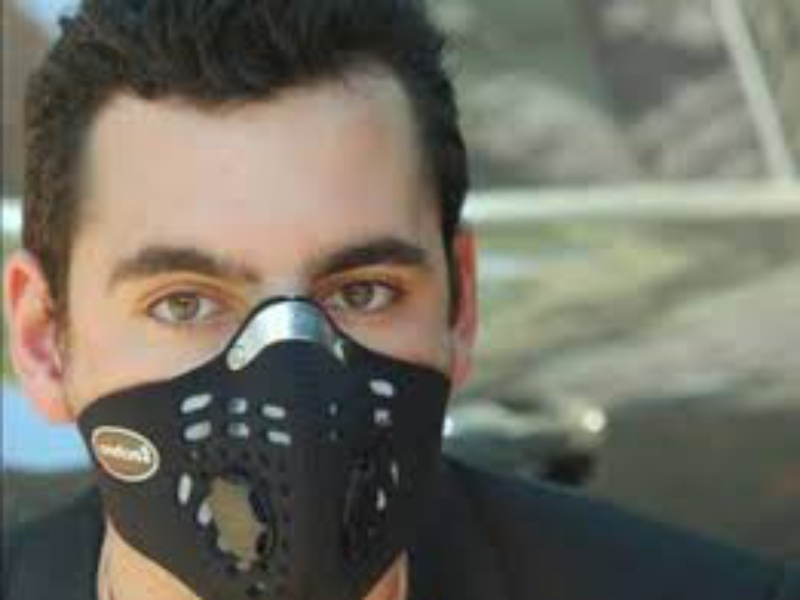ManaoArotava: (24, 102, 475, 574)
